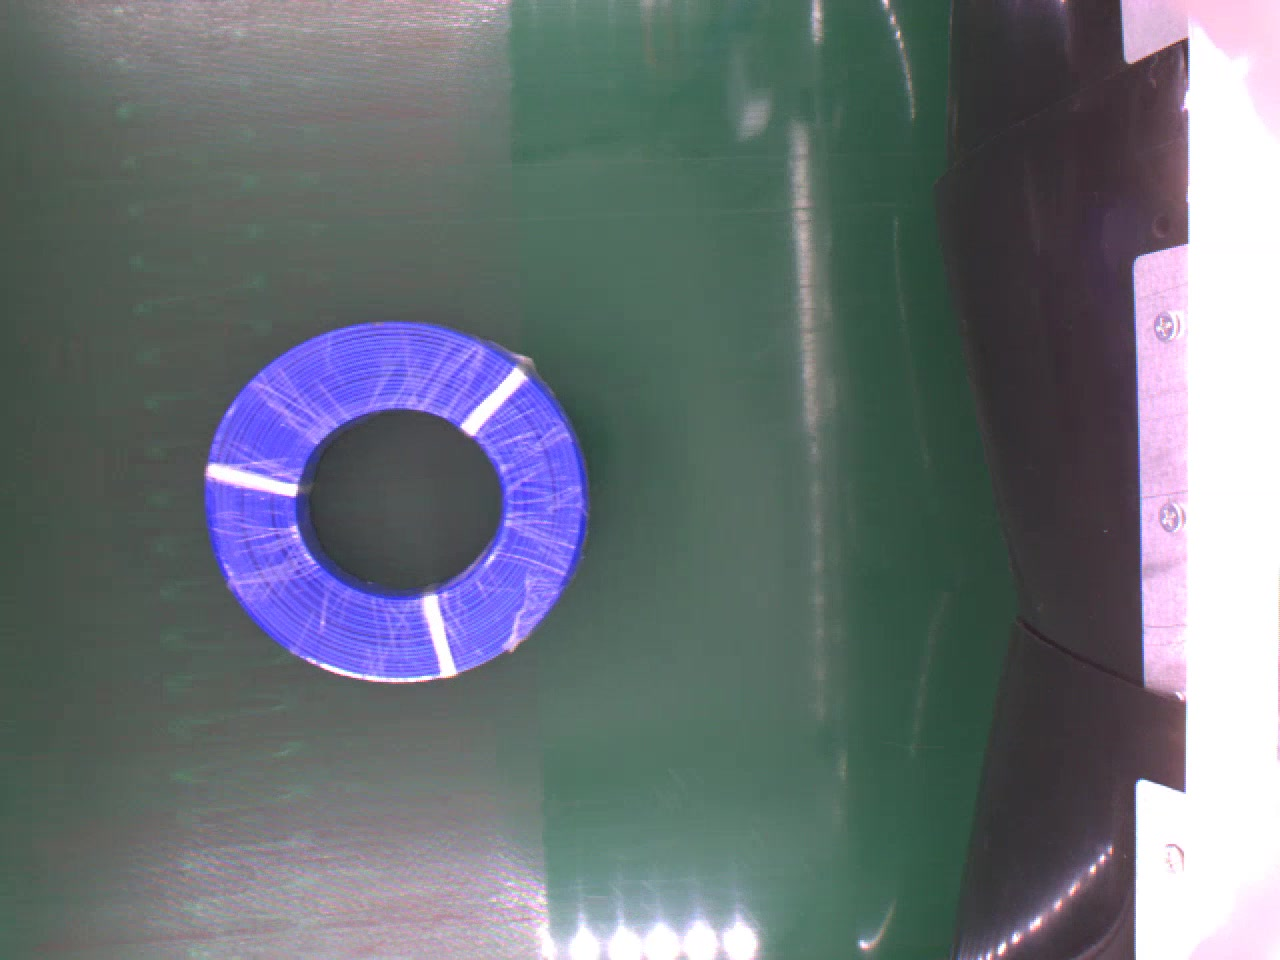blue: (203, 318, 593, 684)
